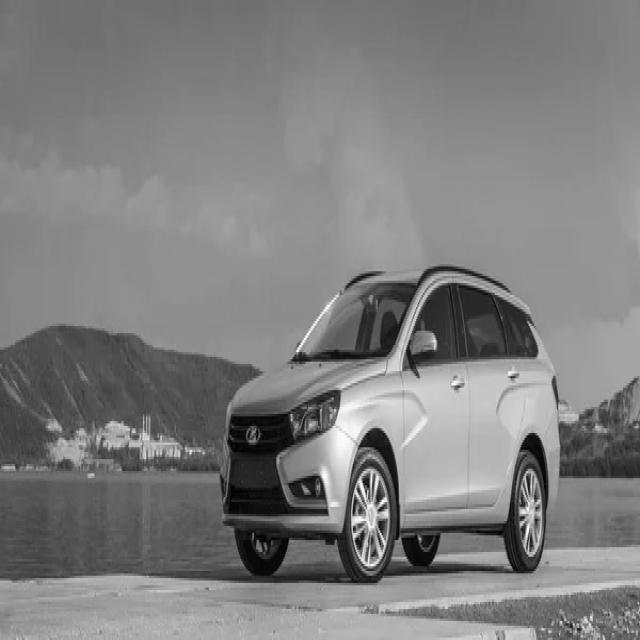Car: (220, 266, 560, 580)
